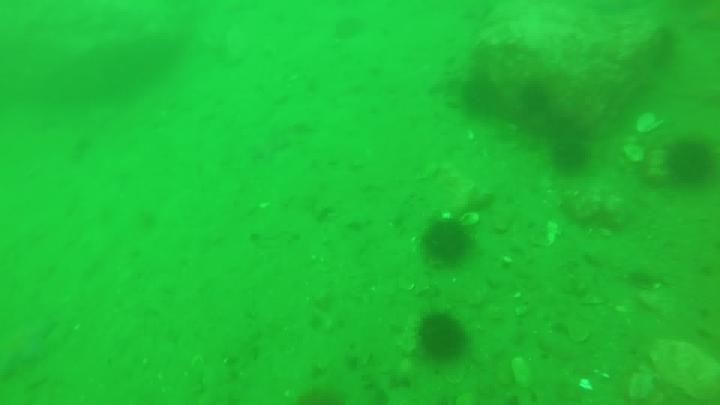echinus: (513, 83, 568, 133), (664, 138, 710, 195), (424, 217, 470, 262), (424, 316, 466, 364), (551, 131, 595, 175), (457, 78, 492, 117)
scallop: (637, 112, 670, 134), (622, 143, 646, 162), (462, 211, 480, 225)
starfish: (17, 319, 57, 363), (246, 127, 290, 160)
